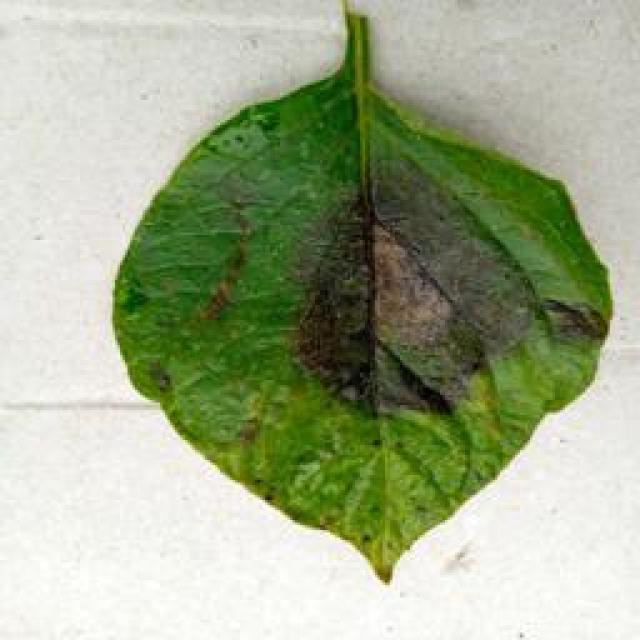late_blight: (105, 3, 615, 585)
